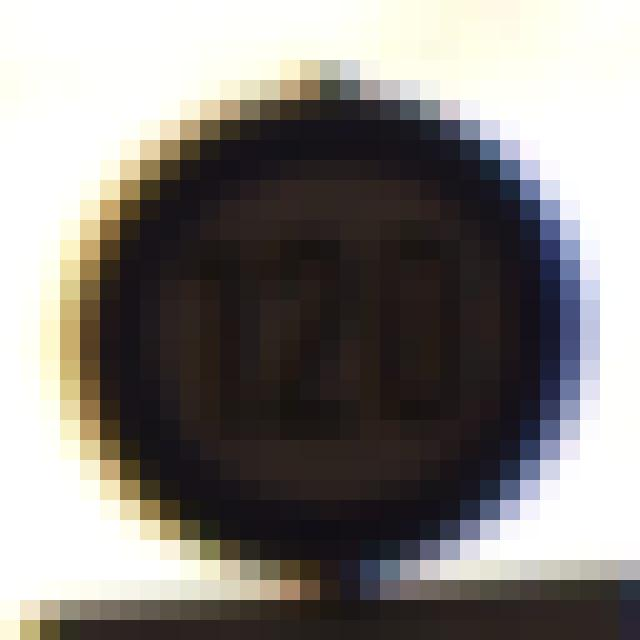SPEED LIMIT 120: (66, 75, 586, 555)
